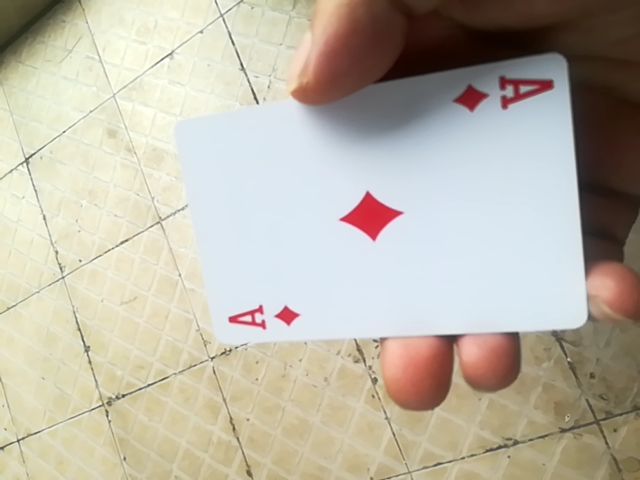fk a: (183, 51, 585, 347)
